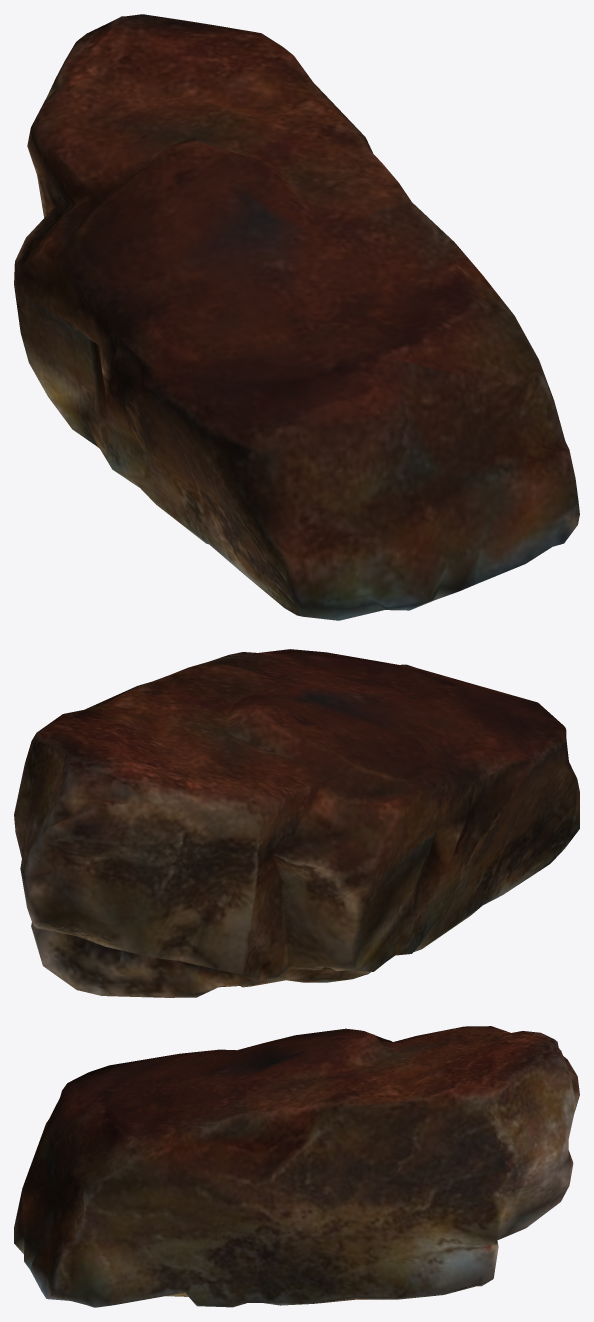
The model's file is rock.glb.
3 renders of one model, top to bottom at view 1: azimuth 30°, elevation 25°; view 2: azimuth 150°, elevation 25°; view 3: azimuth 270°, elevation 25°, orthographic. The views are drawn at different scales.
Parts seen in each view (by area): view 1: rock_07; view 2: rock_07; view 3: rock_07.
Part boxes in pixels (x1,y1,x2,y2): rock_07: [14, 14, 579, 620]; rock_07: [14, 649, 579, 997]; rock_07: [14, 1026, 579, 1307].
Bounding box in the file's own units: 0.1675 × 0.1434 × 0.3194.
1 material, 1 textured.
